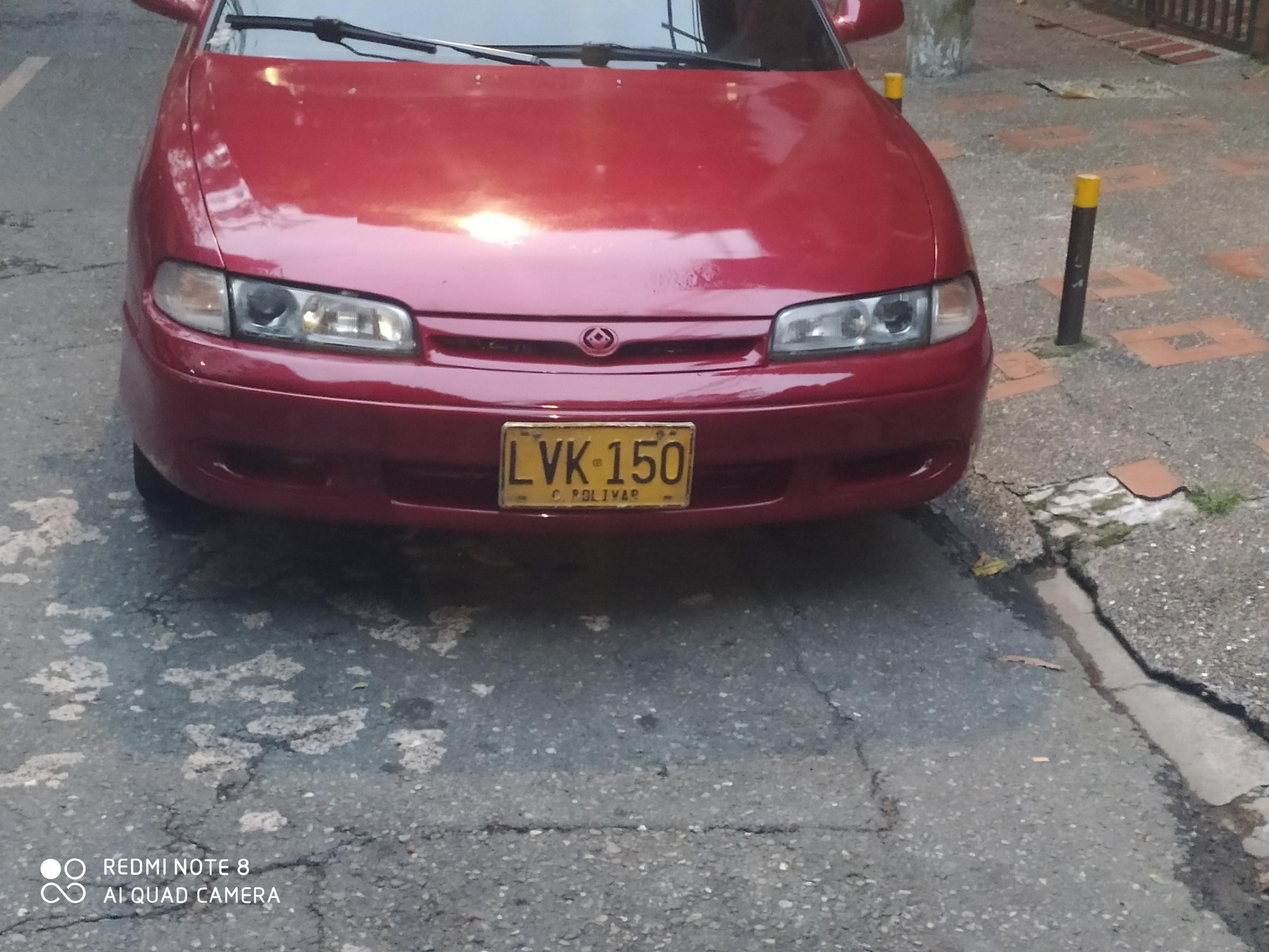placa: (496, 417, 698, 513)
